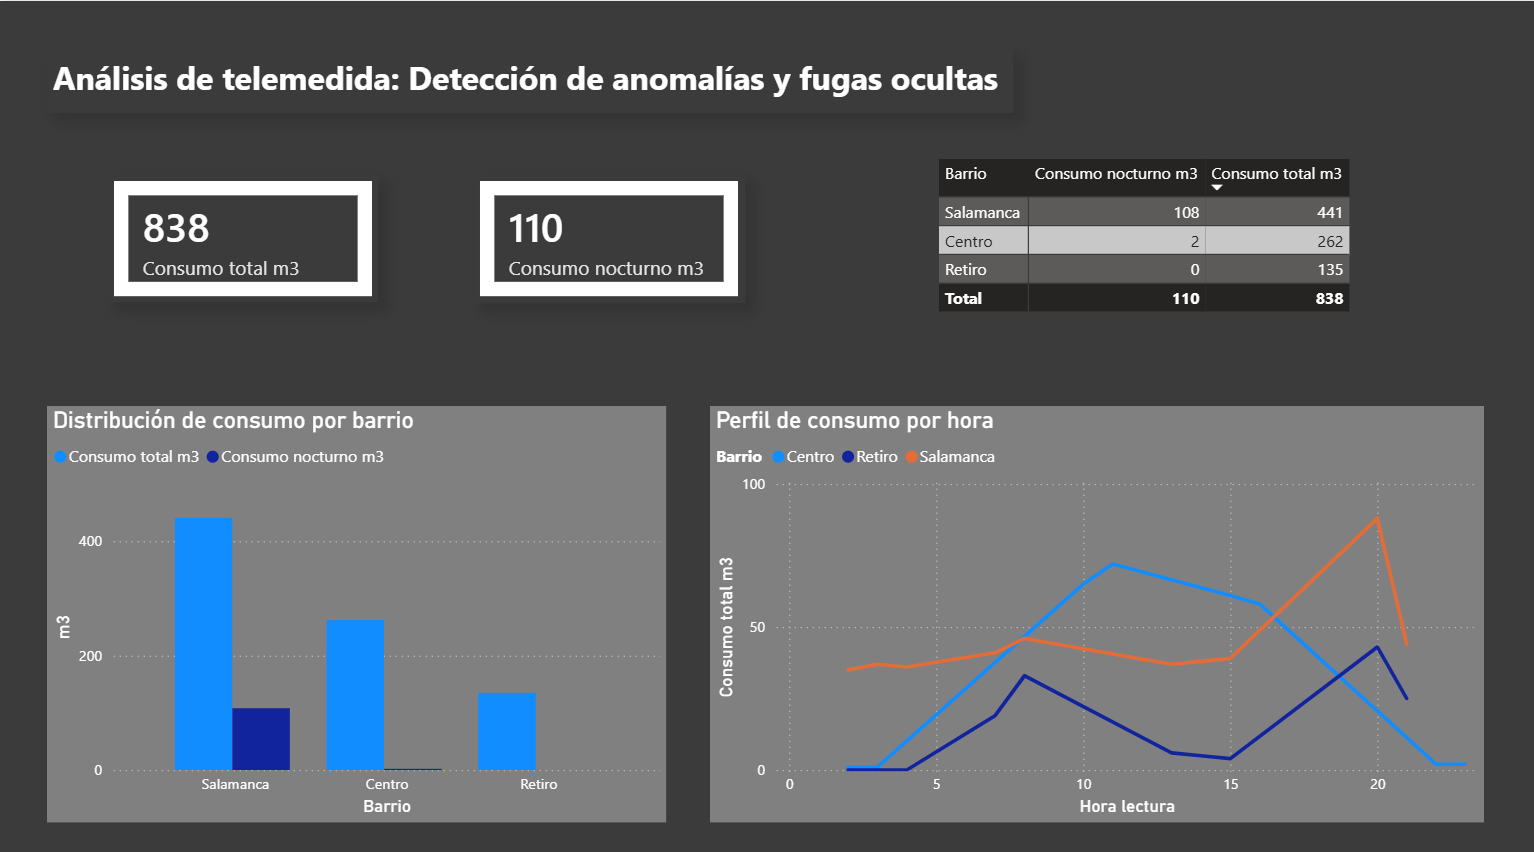

Layout of this report page (visuals, bound fields, positions):
{"tool":"powerbi","page":{"name":"Página 1","canvas":[1280,720],"ordinal":0},"visuals":[{"type":"pivotTable","fields":{"Rows":["Dim_Geografia.Barrio"],"Values":["_Medidas.Consumo Nocturno m3","_Medidas.Consumo Total m3"]},"box":[777.6,126.8,356.5,140.1],"z":0},{"type":"cardVisual","fields":{"Data":["_Medidas.Consumo Nocturno m3"]},"box":[394.9,145.1,225.7,106.6],"z":2000},{"type":"clusteredColumnChart","title":"Distribución de consumo por barrio","fields":{"Category":["Dim_Geografia.Barrio"],"Y":["_Medidas.Consumo Total m3","_Medidas.Consumo Nocturno m3"]},"box":[39,337.8,516.1,346.7],"z":3000},{"type":"lineChart","title":"Perfil de consumo por hora","fields":{"Category":["Fact_Lecturas_Horarias.Hora_Lectura"],"Y":["_Medidas.Consumo Total m3"],"Series":["Dim_Geografia.Barrio"]},"box":[591.4,337.8,644.6,346.7],"z":4000},{"type":"textbox","box":[39,39.9,805.1,53.2],"z":5000},{"type":"cardVisual","fields":{"Data":["_Medidas.Consumo total m3"]},"box":[90.3,144.9,225.2,106.2],"z":5001}]}

Visuals, with their boxes in screenshot pixels (x1, y1, x2, y2), scaled from the page's 1280x720 canvas onto the 1534x852 screenshot:
pivotTable - Dim_Geografia.Barrio x _Medidas.Consumo Nocturno m3: bbox=[932, 150, 1359, 316]
cardVisual - _Medidas.Consumo Nocturno m3: bbox=[473, 172, 744, 298]
"Distribución de consumo por barrio" clusteredColumnChart: bbox=[47, 400, 665, 810]
"Perfil de consumo por hora" lineChart: bbox=[709, 400, 1481, 810]
textbox: bbox=[47, 47, 1012, 110]
cardVisual - _Medidas.Consumo total m3: bbox=[108, 171, 378, 297]
